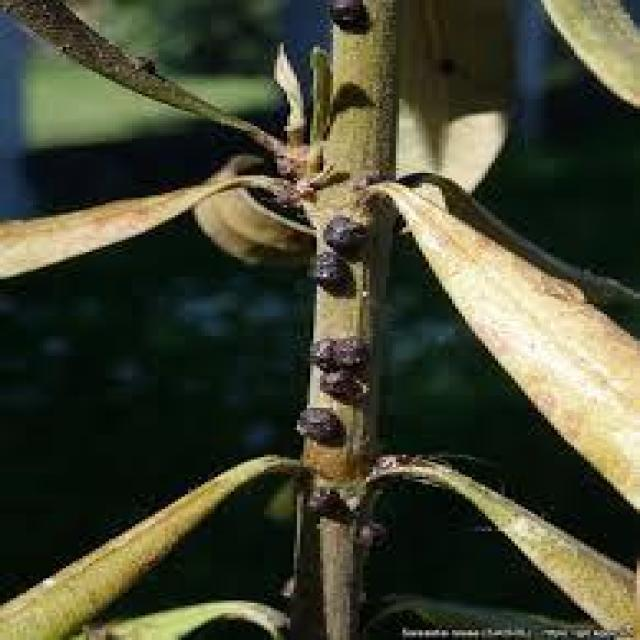BlackScale: (310, 336, 376, 405), (310, 215, 366, 294), (294, 406, 350, 451), (326, 0, 371, 33)
